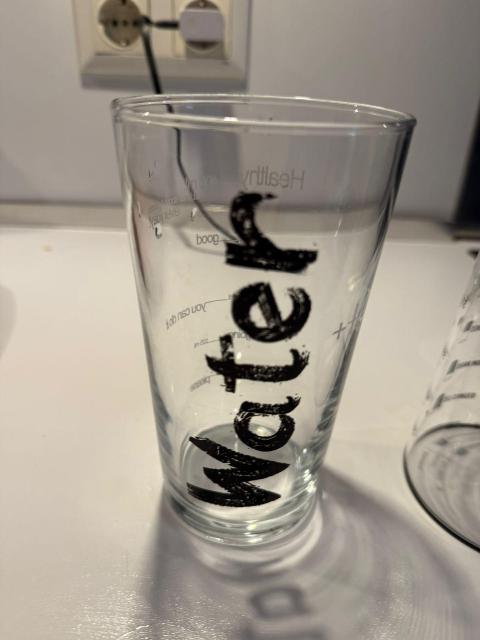Cam: (116, 103, 404, 531), (407, 208, 480, 568)
